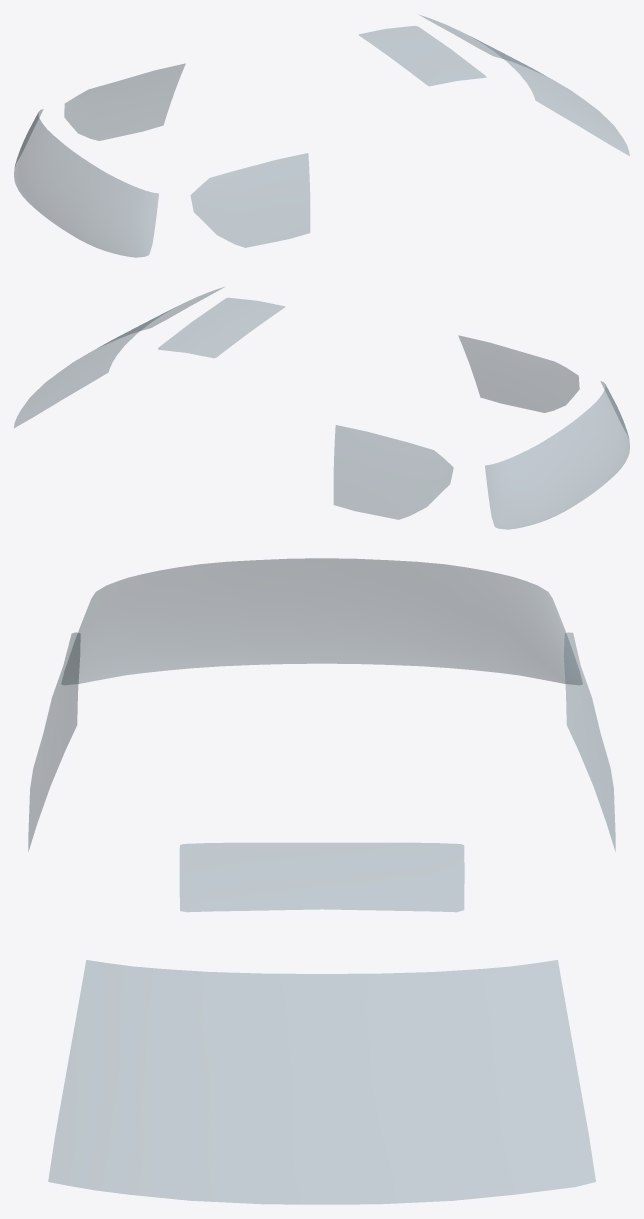
3 views of the same model, one above another, from view 1: azimuth 30°, elevation 25°; view 2: azimuth 150°, elevation 25°; view 3: azimuth 270°, elevation 25° (orthographic). The views are drawn at different scales.
Visible parts, largest first — view 1: SM_NissanPatrol_Glass_Int2; view 2: SM_NissanPatrol_Glass_Int2; view 3: SM_NissanPatrol_Glass_Int2.
Boxes of the visible parts, box(x1,y1,x2,y2) form: SM_NissanPatrol_Glass_Int2: box(14, 15, 629, 257); SM_NissanPatrol_Glass_Int2: box(14, 287, 629, 529); SM_NissanPatrol_Glass_Int2: box(28, 558, 615, 1204).
Size of the model in its own units: 3.91 by 0.6141 by 1.86.
